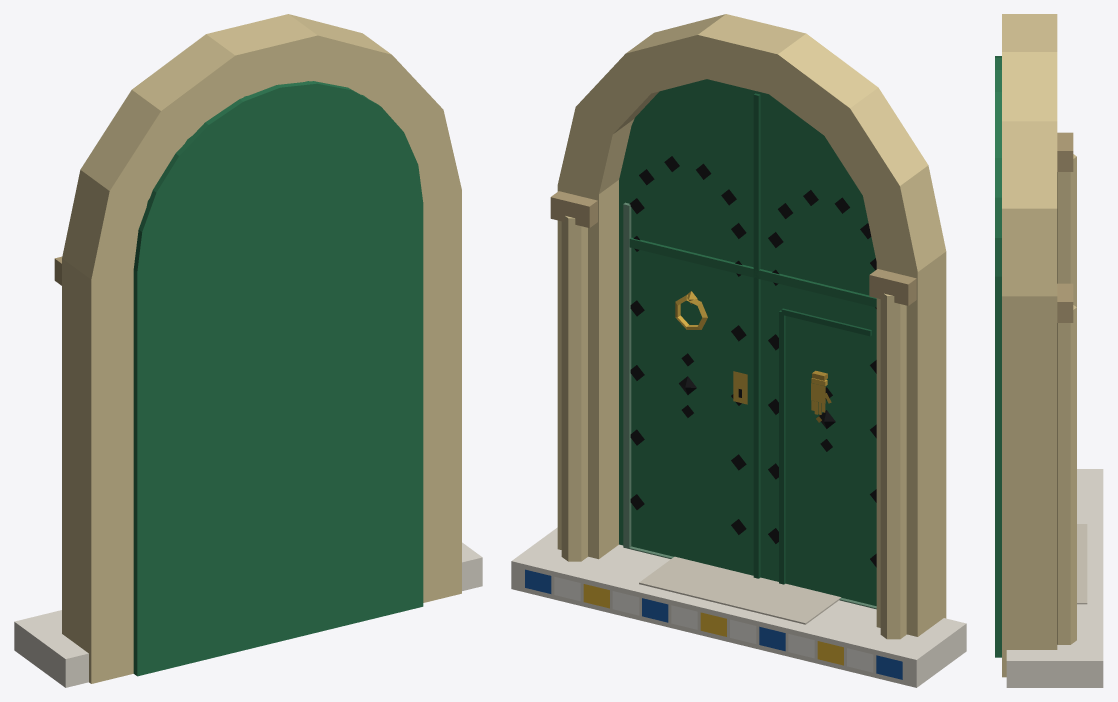
The model's file is door_sbs_green.glb.
3 views of the same model, side by side, from view 1: azimuth 30°, elevation 25°; view 2: azimuth 150°, elevation 25°; view 3: azimuth 270°, elevation 25° (orthographic). The views are drawn at different scales.
Parts seen in each view (by area): view 1: door_sbs_green; view 2: door_sbs_green; view 3: door_sbs_green.
Part boxes in pixels (box(x1,y1,x2,y2)): door_sbs_green: box(14, 14, 482, 687); door_sbs_green: box(511, 14, 966, 687); door_sbs_green: box(995, 14, 1103, 687).
Size of the model in its own units: 1.97 by 2.68 by 0.472.
